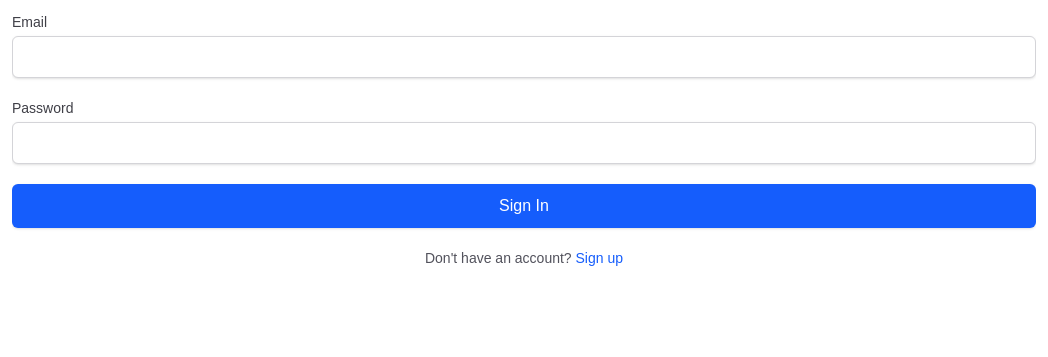
Test: SigninForm › displays server error message for invalid credentials
This screenshot has width=1048, height=357.
Type "test@example.com" into the field labelled "Email".
click(524, 57); type("test@example.com")  # box [12,36,1036,78]
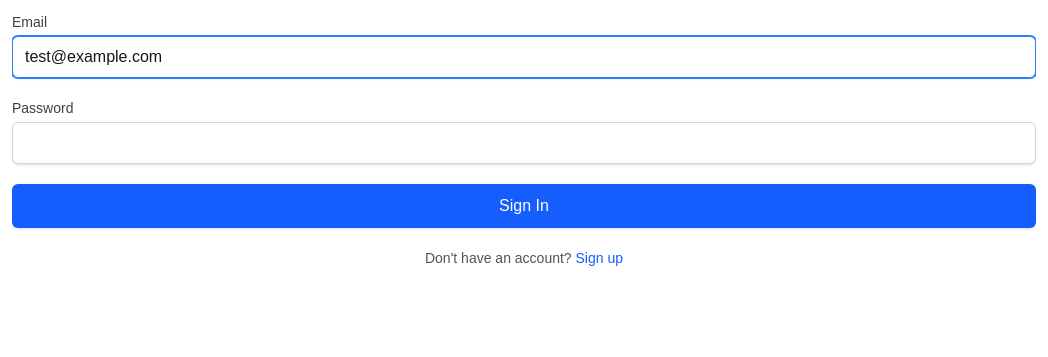
Type "wrongpassword" into the password field labelled "Password".
click(524, 143); type("wrongpassword")  # box [12,122,1036,164]
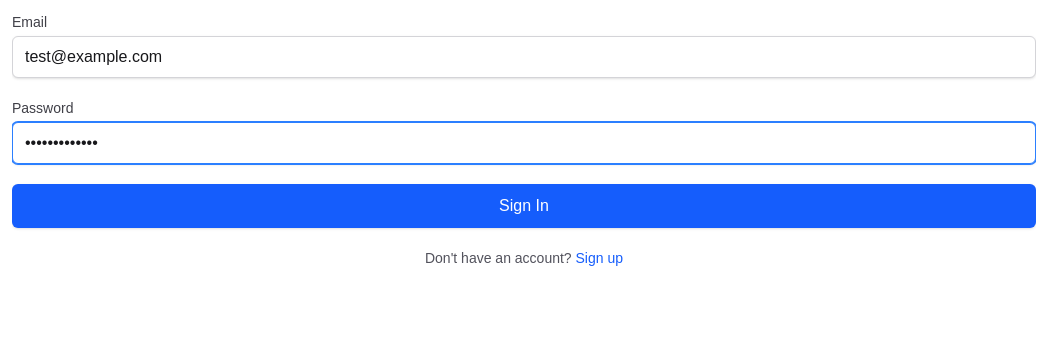
Click the button "Sign In".
click(524, 206)  # box [12,184,1036,228]
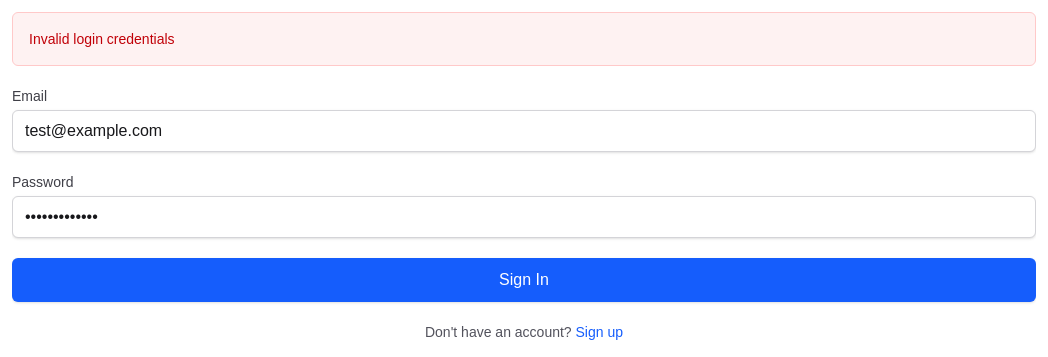
Expected: the text "Invalid login credentials" is shown, [12,12,1036,66]
